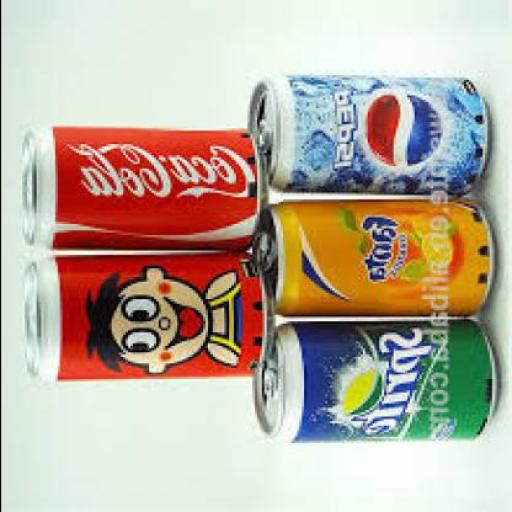metal: (22, 250, 268, 378), (17, 122, 260, 250), (252, 317, 495, 444), (252, 193, 490, 317), (242, 75, 488, 193)
